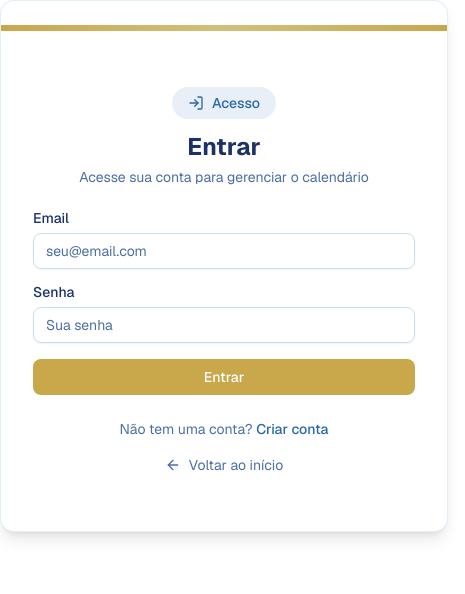
Scenario: LoginForm › shows error on failed login
Type "test@test.com" into the field labelled "Email" at (224, 251), box [33,233,415,269]
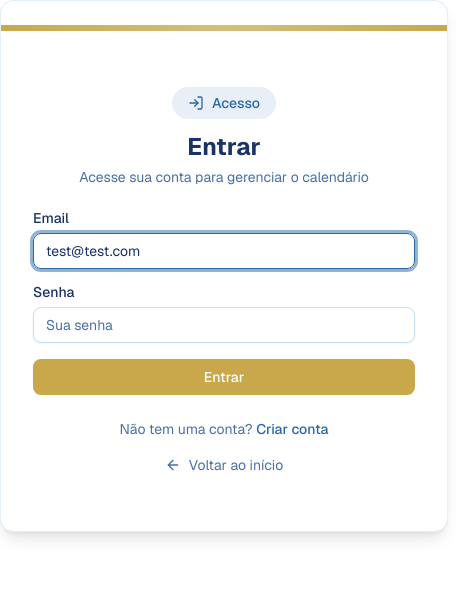
Type "wrong" into the password field labelled "Senha" at (224, 325), box [33,307,415,343]
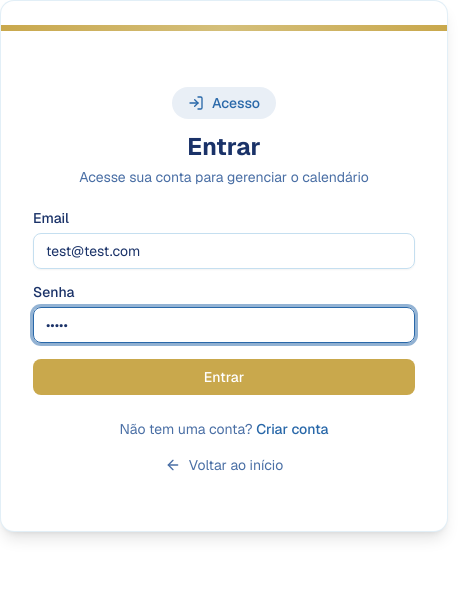
Click the button "Entrar" at (224, 377), box [33,359,415,395]
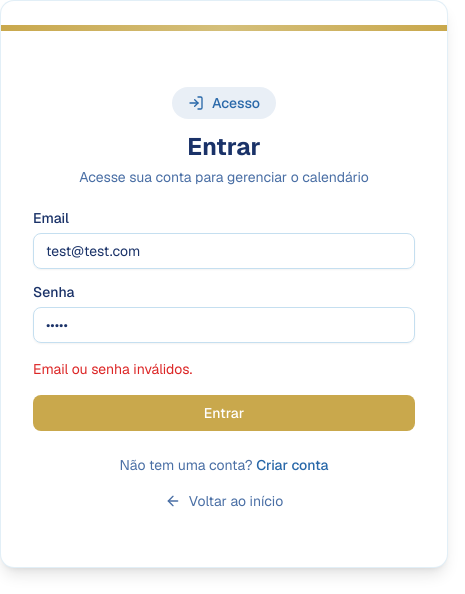
expect the text "Email ou senha inválidos." is shown: met, box [33,360,192,378]
